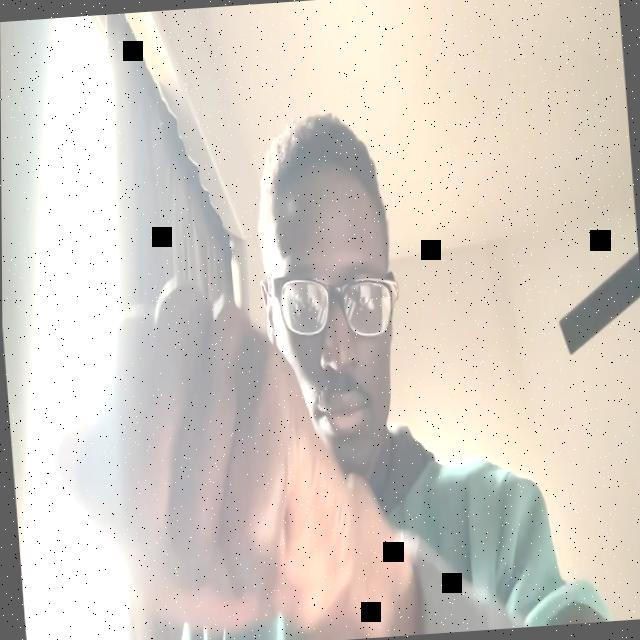Rock: (32, 266, 364, 640)
